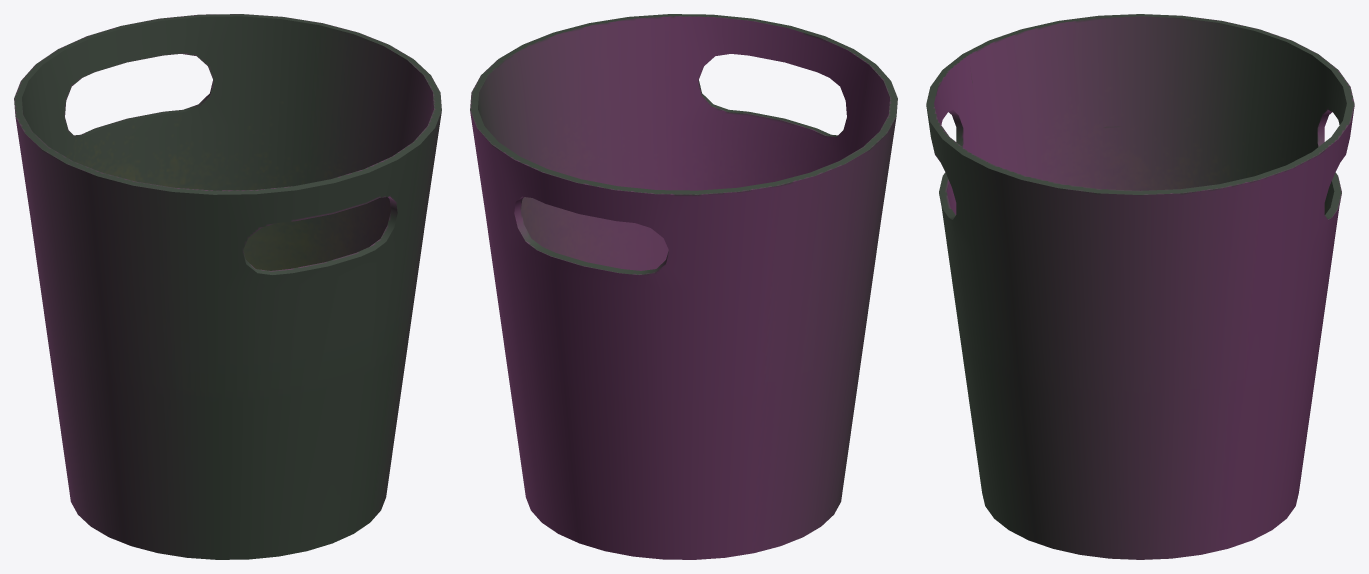
The model's file is Dustbin.fbx.
3 views of the same model, side by side, from view 1: azimuth 30°, elevation 25°; view 2: azimuth 150°, elevation 25°; view 3: azimuth 270°, elevation 25° (orthographic).
Visible parts, largest first — view 1: Dustbin; view 2: Dustbin; view 3: Dustbin.
Part boxes in pixels (x1,y1,x2,y2): Dustbin: (14,14,441,559); Dustbin: (470,14,897,559); Dustbin: (926,14,1354,559).
Size of the model in its own units: 69.55 by 69.72 by 69.55.
